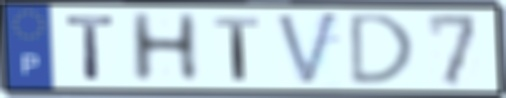7: (424, 12, 480, 90)
D: (347, 12, 418, 88)
H: (126, 11, 204, 85)
T: (63, 14, 119, 82), (211, 15, 262, 82)
V: (273, 9, 343, 89)
